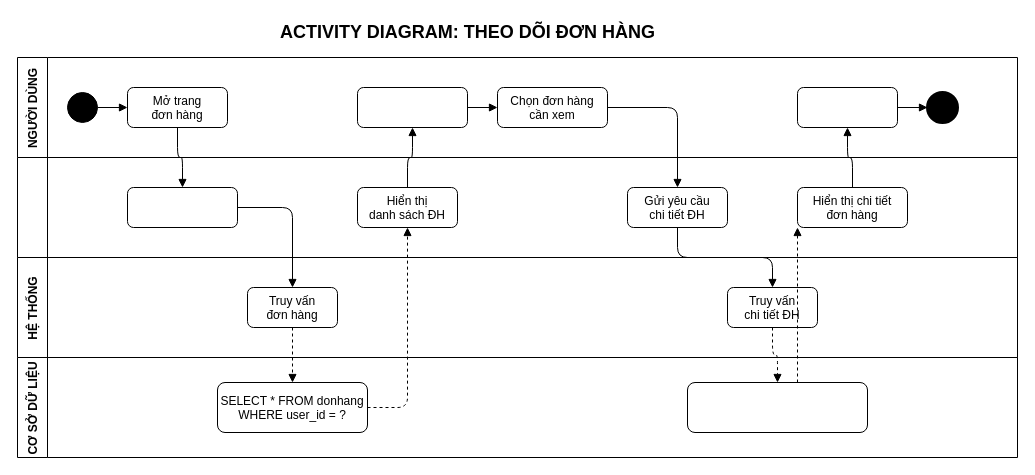
The diagram is 1035 pixels wide and 475 high, and some of its shapes have lost their labels. Each missing label, with the box of its shape:
GIAO DIỆN: (16, 156, 1018, 258)
Gửi yêu cầu load đơn hàng: (126, 186, 238, 228)
SELECT * FROM chitietdonhang WHERE donhang_id = ?: (686, 382, 868, 432)
Xem chi tiết và trạng thái: (796, 86, 898, 128)
Xem danh sách đơn hàng: (356, 86, 468, 128)
